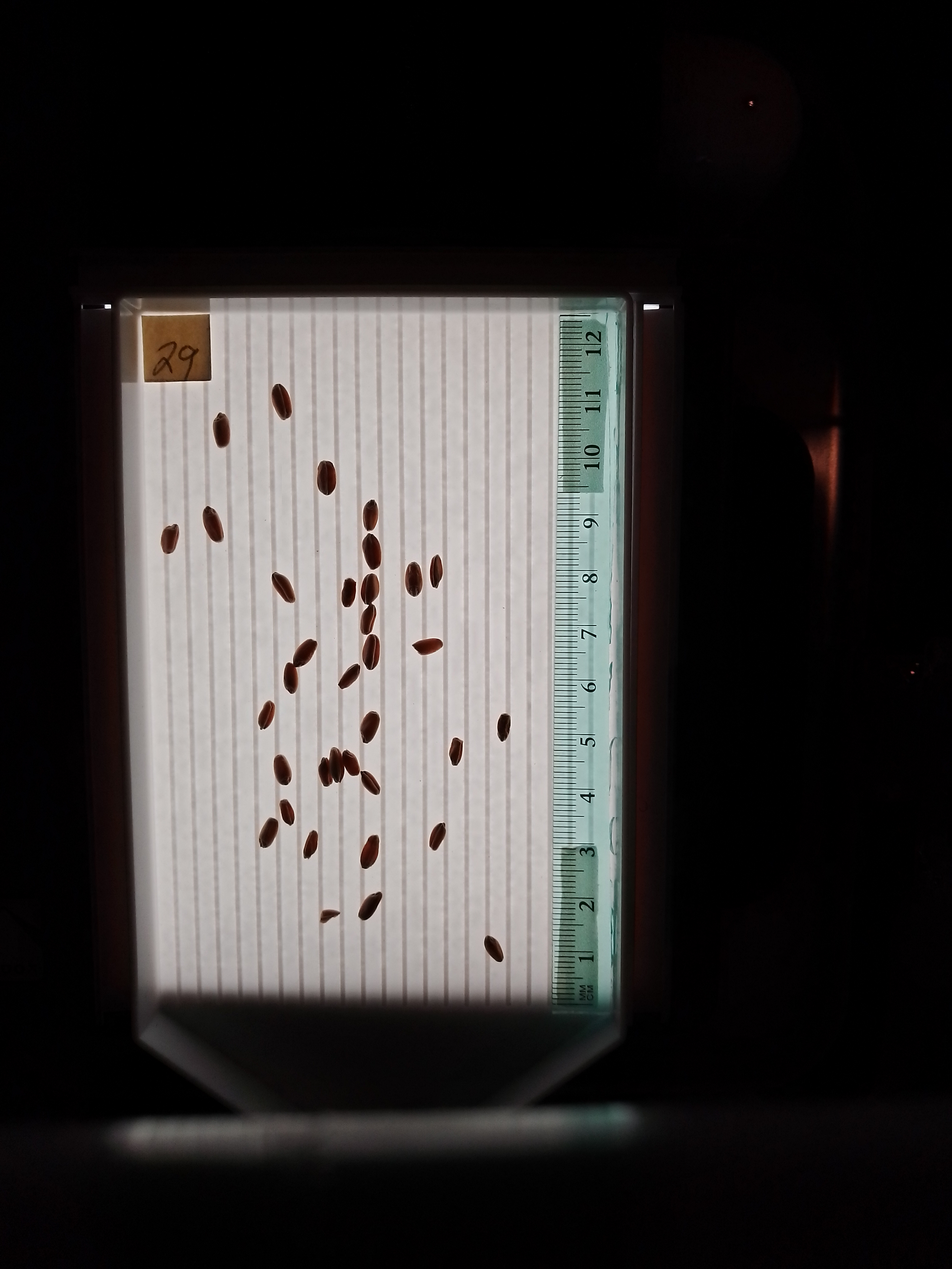seed mask: (202, 507, 224, 543), (271, 385, 292, 420), (272, 573, 296, 603), (362, 535, 382, 570), (358, 892, 382, 921), (316, 461, 336, 495), (360, 835, 380, 869), (293, 639, 316, 667), (362, 635, 380, 670), (360, 712, 380, 743), (405, 563, 423, 596), (259, 818, 278, 849), (213, 413, 230, 447), (274, 754, 292, 786), (160, 525, 179, 555), (361, 575, 380, 604), (484, 935, 504, 962), (329, 749, 344, 783), (339, 664, 359, 689), (363, 500, 379, 531), (429, 822, 446, 851), (258, 701, 275, 729), (414, 638, 442, 655), (342, 751, 360, 777), (360, 606, 376, 635), (361, 771, 380, 795), (430, 556, 444, 588), (279, 799, 295, 825), (342, 579, 356, 607), (284, 664, 297, 693), (449, 739, 463, 765), (304, 832, 318, 858), (498, 714, 511, 741), (319, 759, 332, 786)
